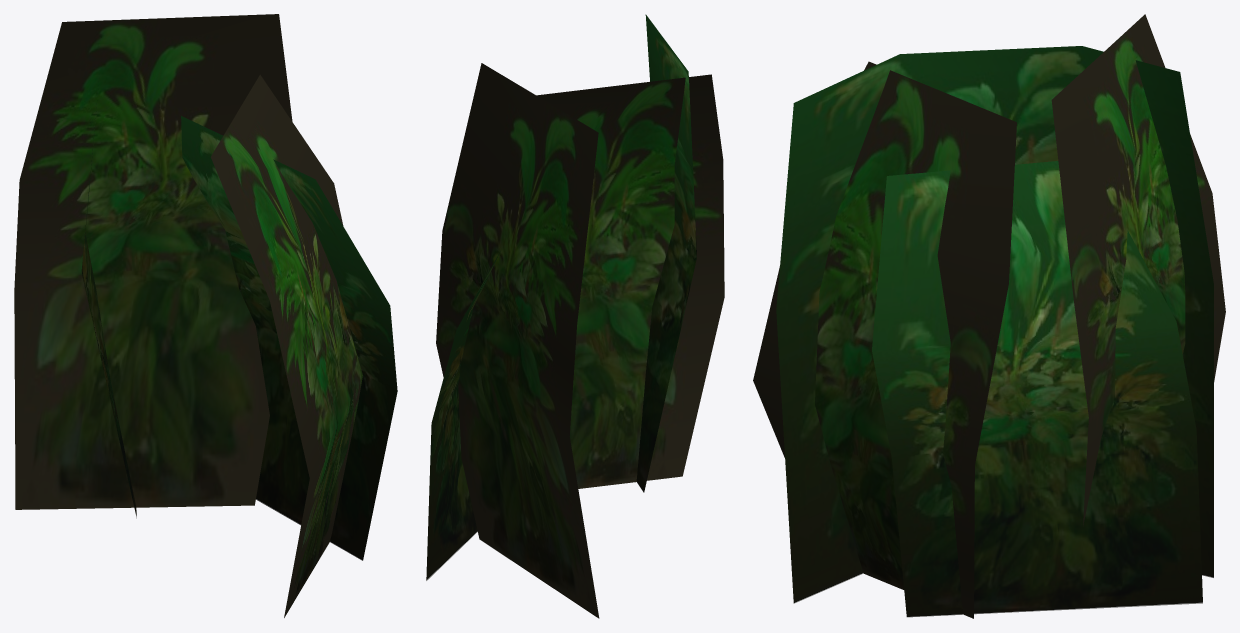
Rendered from bush_f.fbx.
3 views of the same model, side by side, from view 1: azimuth 30°, elevation 25°; view 2: azimuth 150°, elevation 25°; view 3: azimuth 270°, elevation 25° (orthographic). The views are drawn at different scales.
Visible parts, largest first — view 1: plant_plane03, plant_plane04, plant_plane02, plant_plane01; view 2: plant_plane03, plant_plane04, plant_plane01, plant_plane02; view 3: plant_plane02, plant_plane04, plant_plane01, plant_plane03.
Part boxes in pixels (x1,y1,x2,y2): plant_plane03: (14, 14, 292, 509); plant_plane04: (211, 74, 362, 617); plant_plane02: (181, 116, 397, 560); plant_plane01: (81, 70, 136, 518); plant_plane03: (436, 63, 599, 618); plant_plane04: (536, 74, 724, 488); plant_plane01: (636, 14, 696, 492); plant_plane02: (426, 251, 500, 580); plant_plane02: (872, 161, 1202, 617); plant_plane04: (753, 61, 1016, 618); plant_plane01: (776, 46, 1213, 603); plant_plane03: (1051, 14, 1225, 526).
Bounding box in the file's own units: 477 × 908 × 762.
1 material, 1 textured.
